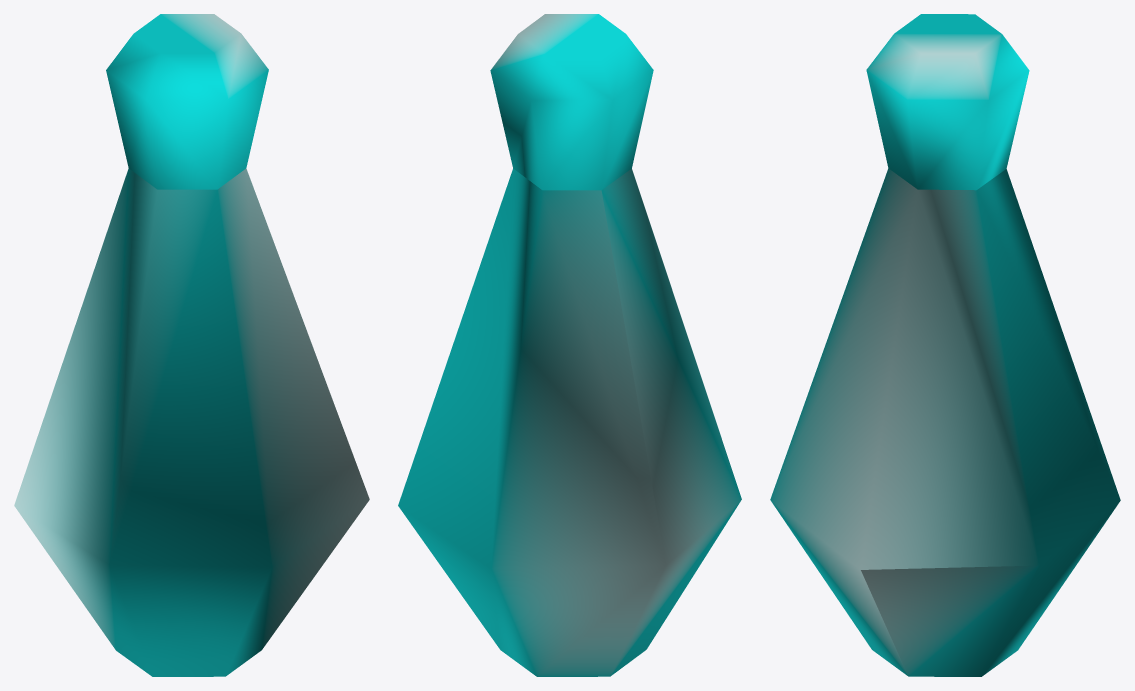
File: faae.hrc.gltf
The picture shows the model from 3 angles, left to right: view 1: azimuth 30°, elevation 25°; view 2: azimuth 150°, elevation 25°; view 3: azimuth 270°, elevation 25°; orthographic projection.
Parts seen in each view (by area): view 1: faaeBone0_null; view 2: faaeBone0_null; view 3: faaeBone0_null.
Boxes of the visible parts, bbox=[...] form: faaeBone0_null: bbox=[14, 14, 369, 676]; faaeBone0_null: bbox=[398, 14, 741, 676]; faaeBone0_null: bbox=[770, 14, 1120, 676].
Bounding box in the file's own units: 6.23 × 13.48 × 6.94.
